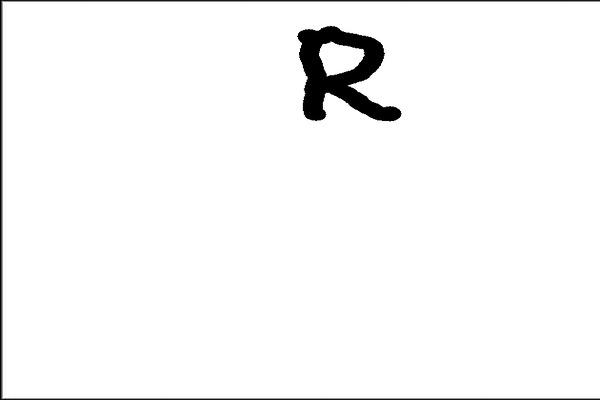R: (295, 24, 409, 129)
